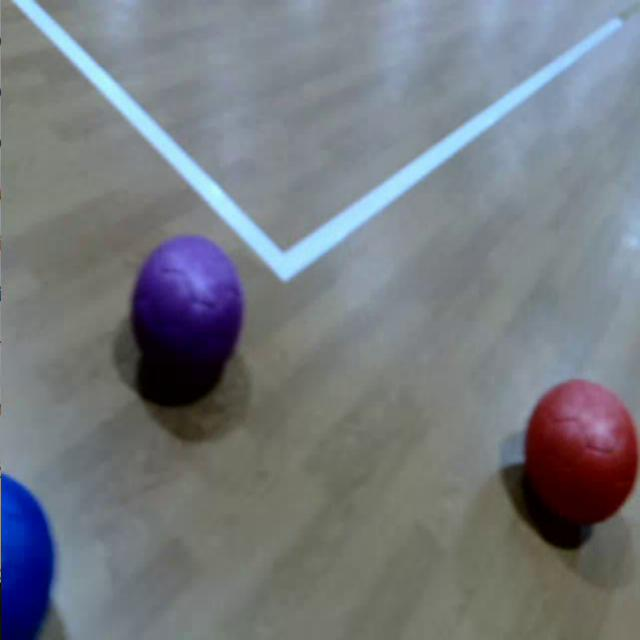blue_ball: (0, 468, 55, 640)
purple_ball: (134, 237, 242, 378)
red_ball: (524, 375, 640, 530)
